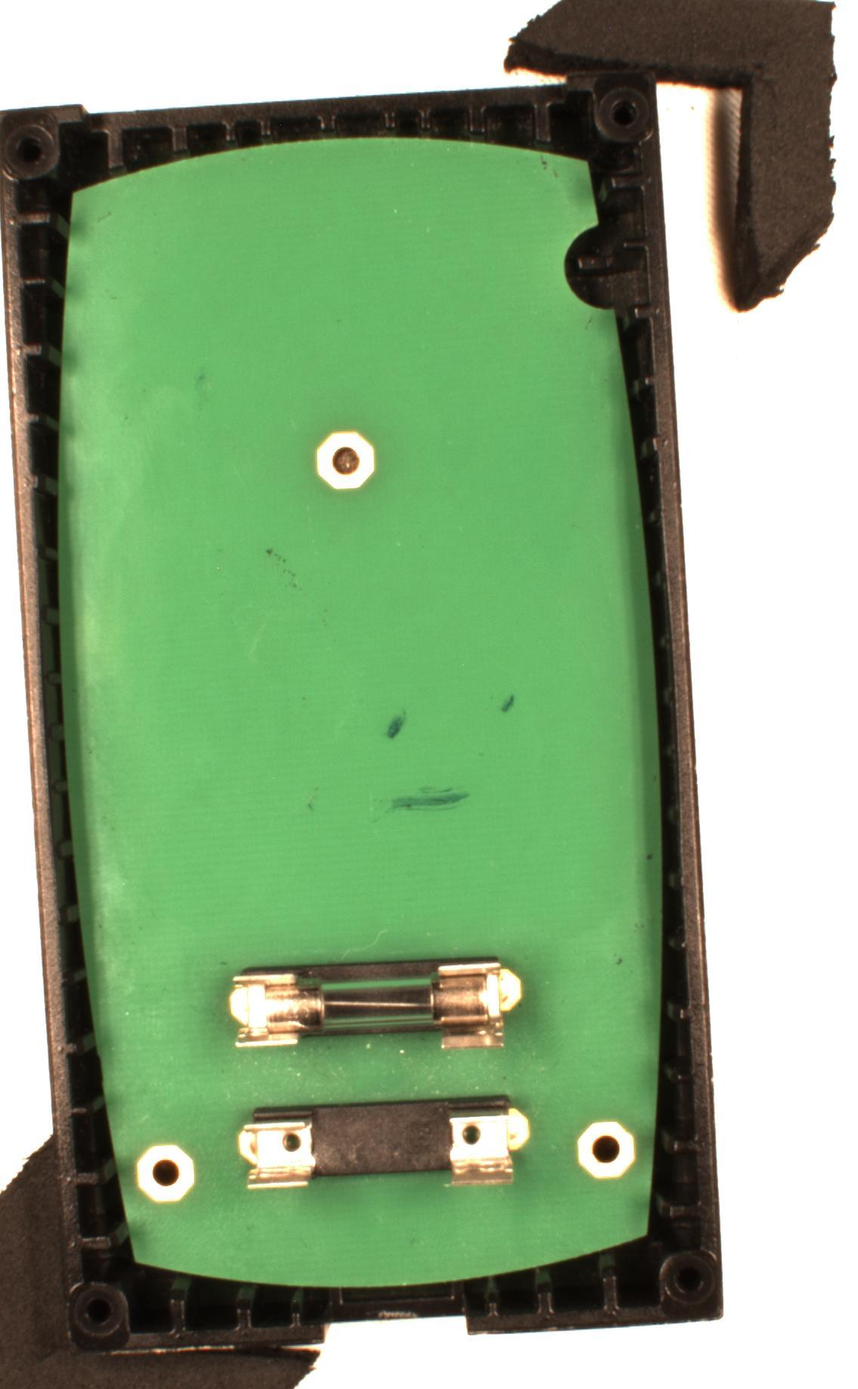Linijsko Ostecene: (387, 785, 469, 812)
Nepostojanje osiguraca: (235, 1091, 533, 1191)
Tockasto Ostecenje: (385, 707, 409, 740), (499, 694, 518, 715)
